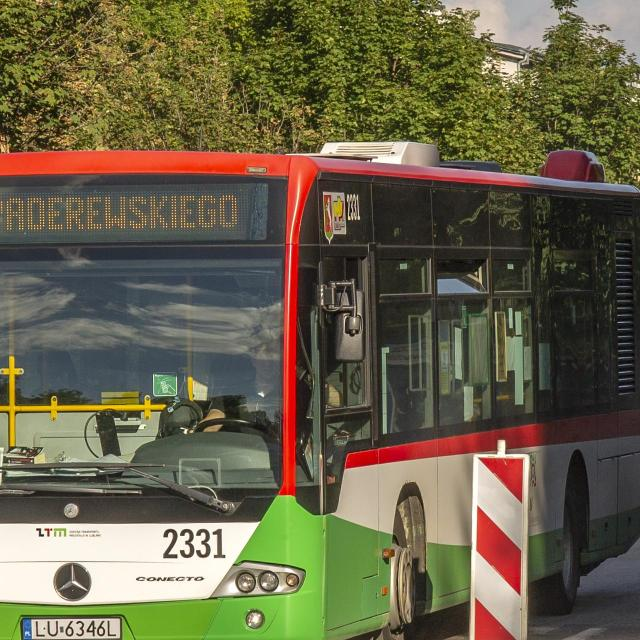Bus: (0, 144, 640, 640)
